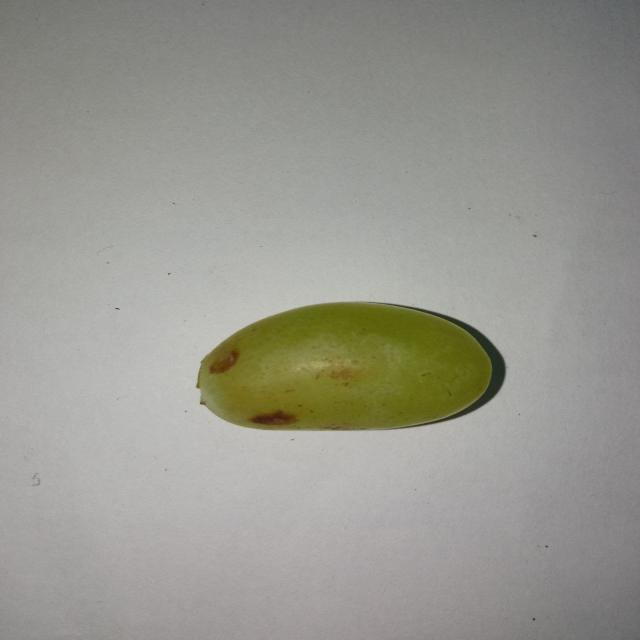fresh_grape: (191, 298, 494, 432)
